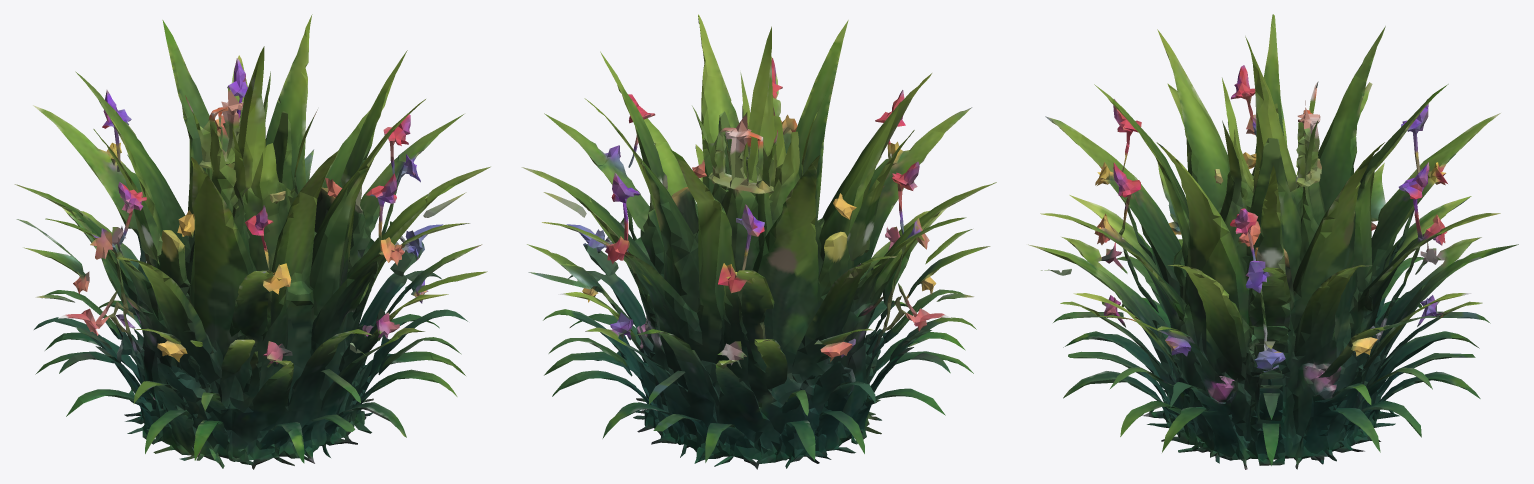
File: grass-tuft.glb
3 renders of one model, left to right at view 1: azimuth 30°, elevation 25°; view 2: azimuth 150°, elevation 25°; view 3: azimuth 270°, elevation 25°, orthographic.
Parts seen in each view (by area): view 1: Rodin_grasstuft; view 2: Rodin_grasstuft; view 3: Rodin_grasstuft.
Boxes of the visible parts, box(x1,y1,x2,y2) form: Rodin_grasstuft: box(14, 14, 490, 469); Rodin_grasstuft: box(521, 14, 996, 469); Rodin_grasstuft: box(1028, 14, 1518, 469).
Bounding box in the file's own units: 1.89 × 1.6 × 1.87.
Materials: 1 (1 with a texture image).
